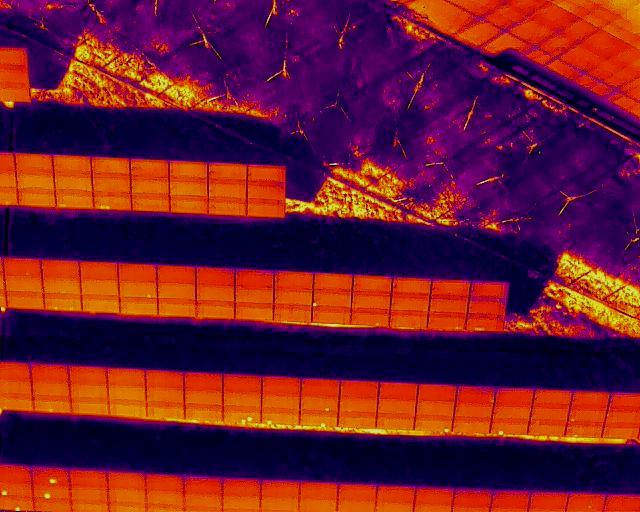Cell: (565, 493, 607, 512), (31, 466, 70, 484), (350, 308, 388, 325), (119, 279, 157, 296), (428, 312, 465, 328), (491, 419, 529, 434), (300, 411, 338, 426), (33, 396, 71, 411), (300, 395, 338, 410), (313, 290, 351, 305), (262, 407, 299, 422), (415, 416, 453, 430), (32, 485, 70, 498), (0, 482, 31, 497), (0, 497, 32, 511)
Cell-Multi: (44, 293, 81, 310), (93, 193, 130, 209), (223, 405, 260, 420)
No-Anomaly: (528, 491, 570, 511), (338, 481, 378, 501), (490, 490, 531, 509), (376, 485, 416, 504), (299, 480, 338, 499), (413, 487, 454, 505), (453, 489, 494, 507), (456, 385, 493, 404), (3, 258, 40, 277), (208, 163, 247, 181), (274, 271, 313, 289), (170, 162, 208, 180), (15, 154, 53, 172), (42, 259, 80, 277), (130, 160, 168, 178), (53, 156, 91, 174), (208, 198, 246, 216), (81, 261, 117, 280), (197, 301, 235, 319), (223, 477, 260, 495), (92, 158, 129, 176), (533, 389, 572, 406), (417, 383, 456, 400), (340, 381, 378, 398), (261, 478, 299, 495), (379, 382, 417, 399), (197, 267, 235, 284), (208, 181, 246, 198), (118, 263, 156, 280), (157, 265, 195, 282), (235, 269, 273, 286), (235, 301, 273, 318), (247, 165, 285, 182), (605, 494, 640, 512), (170, 179, 207, 196), (120, 297, 157, 314), (247, 200, 284, 217), (158, 299, 195, 316), (300, 379, 339, 395), (353, 275, 392, 291), (274, 288, 313, 304), (71, 397, 107, 414), (18, 189, 54, 206), (56, 190, 92, 207), (184, 475, 222, 491), (146, 370, 184, 386), (145, 473, 183, 489), (222, 374, 260, 390), (262, 376, 300, 392), (494, 387, 532, 403), (571, 391, 609, 407), (92, 176, 130, 192), (82, 296, 120, 312), (390, 311, 428, 327), (158, 283, 196, 299), (352, 292, 390, 308), (312, 306, 350, 322), (235, 285, 273, 301), (430, 296, 468, 312), (314, 274, 352, 290), (108, 472, 145, 488), (274, 304, 311, 320), (6, 291, 43, 307), (468, 297, 505, 313), (492, 404, 531, 419), (415, 401, 454, 416), (392, 278, 431, 293), (31, 365, 67, 381), (247, 183, 283, 199), (453, 417, 491, 432), (107, 368, 145, 383), (377, 399, 415, 414), (184, 372, 222, 387), (108, 384, 146, 399), (223, 390, 261, 405), (530, 406, 568, 421), (109, 400, 147, 415), (454, 403, 492, 418), (565, 422, 603, 437), (70, 485, 108, 500), (184, 492, 222, 507), (260, 496, 298, 511), (431, 279, 469, 294), (391, 294, 429, 309), (197, 285, 235, 300), (338, 412, 375, 427), (146, 386, 183, 401), (68, 367, 105, 382), (70, 468, 107, 483), (568, 407, 605, 422), (223, 494, 260, 509), (170, 197, 207, 212), (131, 180, 168, 195), (43, 278, 80, 293), (606, 408, 640, 424), (109, 488, 145, 503), (185, 388, 221, 403), (185, 404, 221, 419), (0, 363, 30, 381), (55, 175, 91, 190), (5, 276, 41, 291), (17, 173, 53, 188), (471, 281, 507, 296), (147, 402, 185, 416), (339, 398, 377, 412), (376, 414, 414, 428), (146, 489, 184, 503), (528, 420, 565, 434), (262, 393, 299, 407), (70, 382, 107, 396), (81, 280, 118, 294), (0, 464, 30, 481), (603, 423, 639, 437), (132, 195, 168, 209), (33, 381, 68, 395), (0, 395, 32, 409), (0, 381, 31, 394)
Unclassified: (466, 314, 502, 332)
